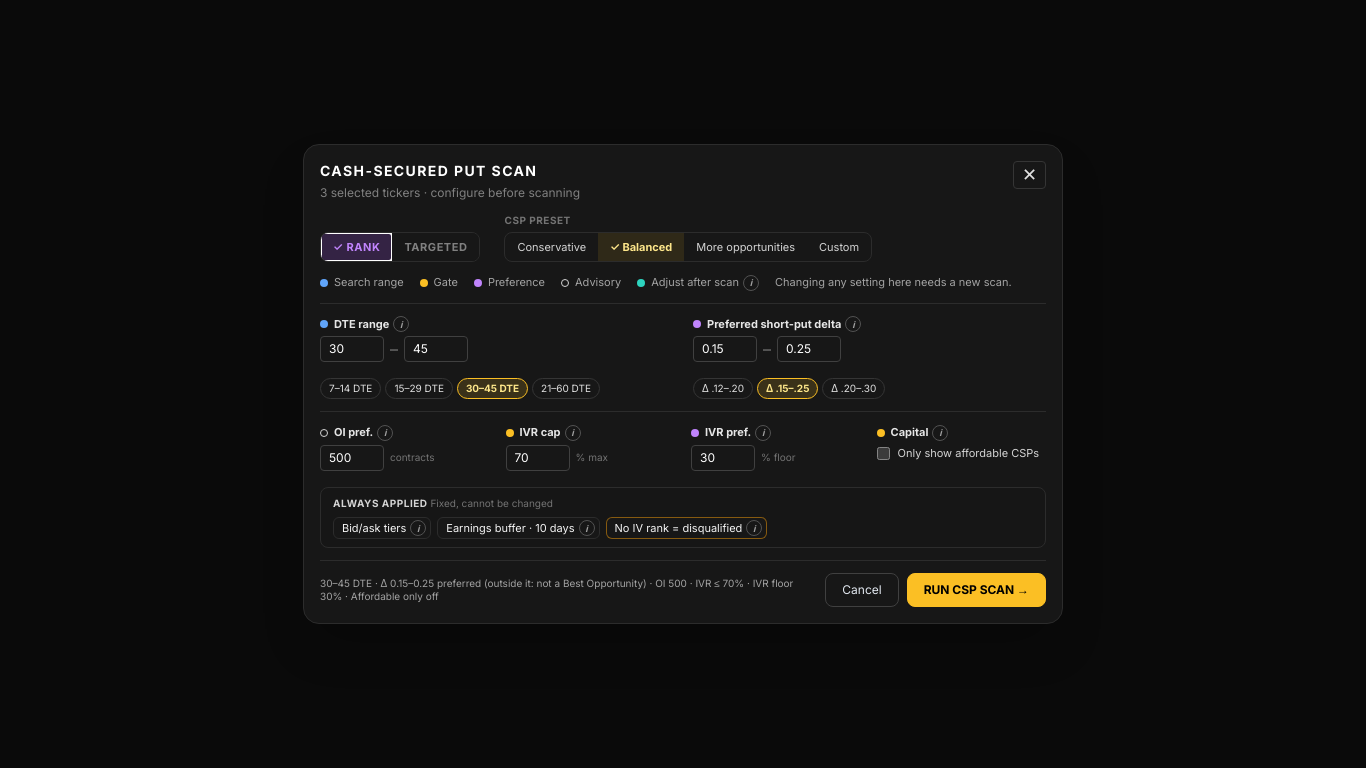
Test case: quick-select pills follow the shared pill and input contract › the delta pills work on the preferred band and keep it valid
This screenshot has width=1366, height=768.
Click the button "Δ .20–.30" at (854, 389), box [822, 378, 885, 399]
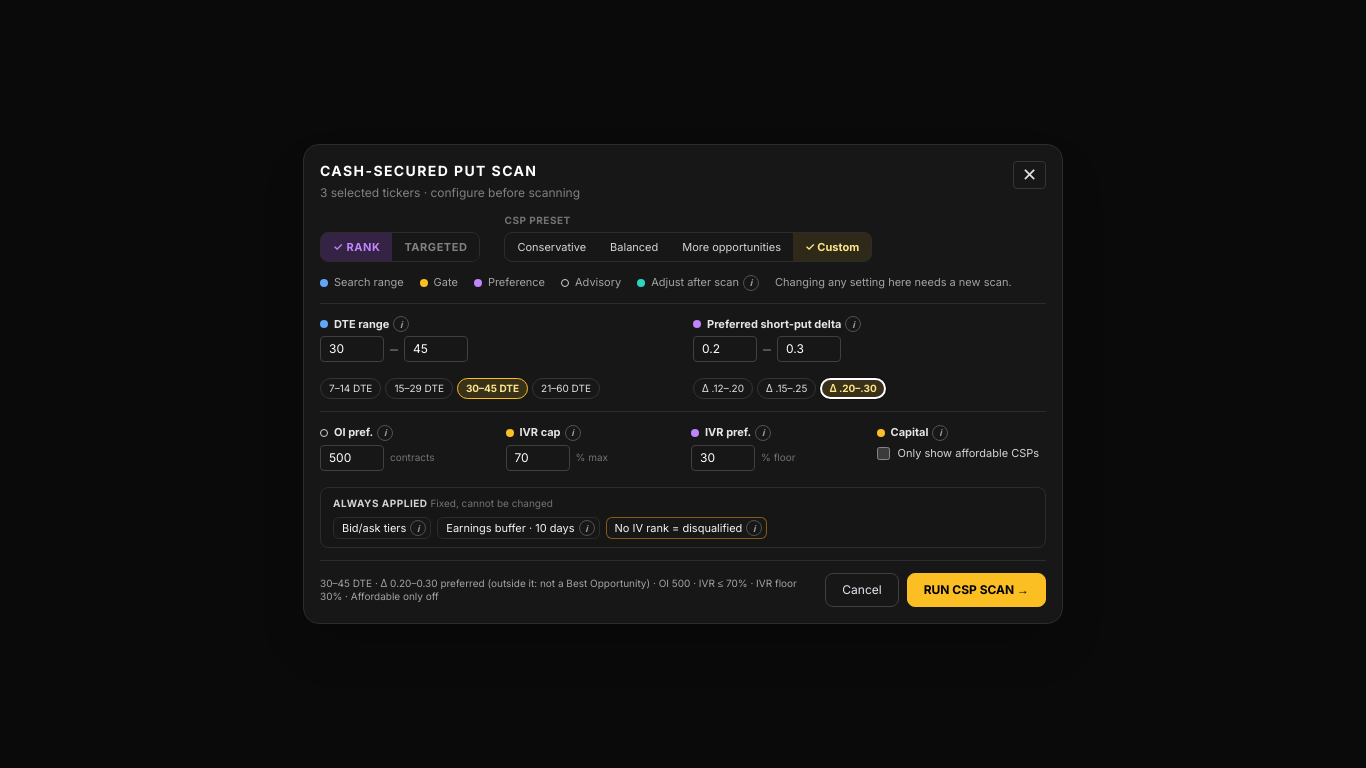
Expected: the field named "Min Δ" holds "0.2", [693, 336, 757, 362]
Expected: the field named "Max Δ" holds "0.3", [777, 336, 841, 362]
